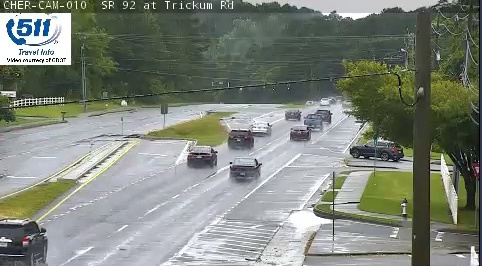car: (1, 219, 46, 261), (229, 158, 260, 178), (187, 146, 217, 166), (228, 129, 253, 149), (290, 125, 310, 140), (303, 115, 323, 129), (251, 121, 271, 135), (314, 109, 332, 124), (285, 109, 301, 120)
